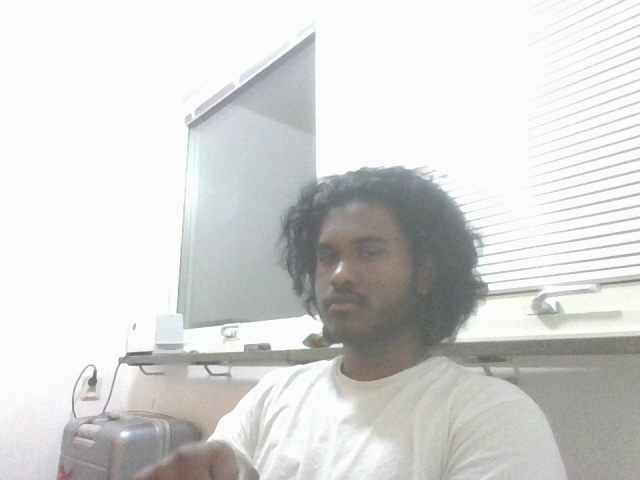Yes: (126, 435, 280, 480)
